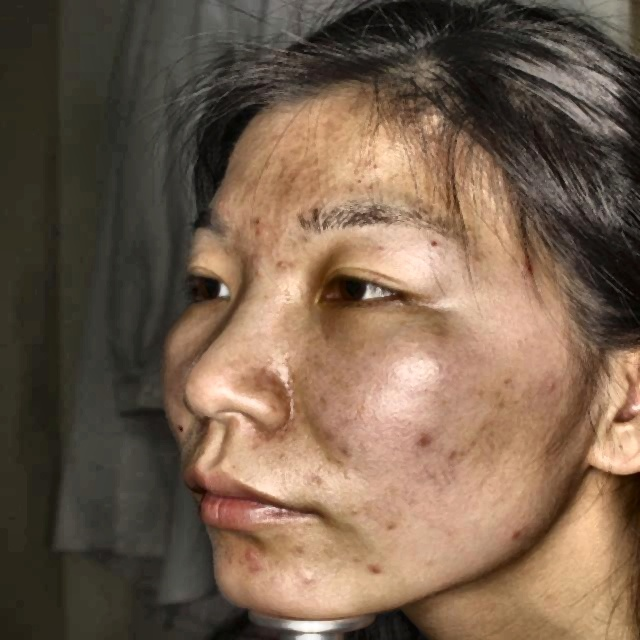comedone: (241, 539, 267, 577), (505, 520, 531, 550), (520, 252, 541, 279), (362, 564, 390, 584), (276, 255, 292, 271)
